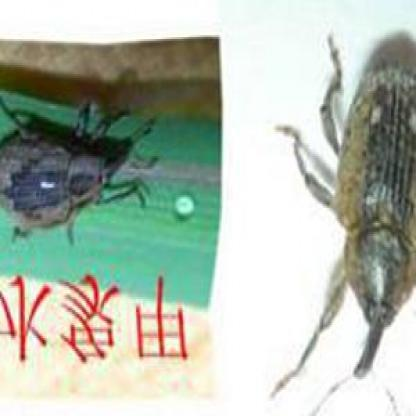rice-bug: (316, 58, 415, 380), (0, 113, 136, 238)
